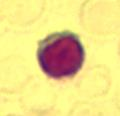lymphocyte: (32, 28, 86, 81)
